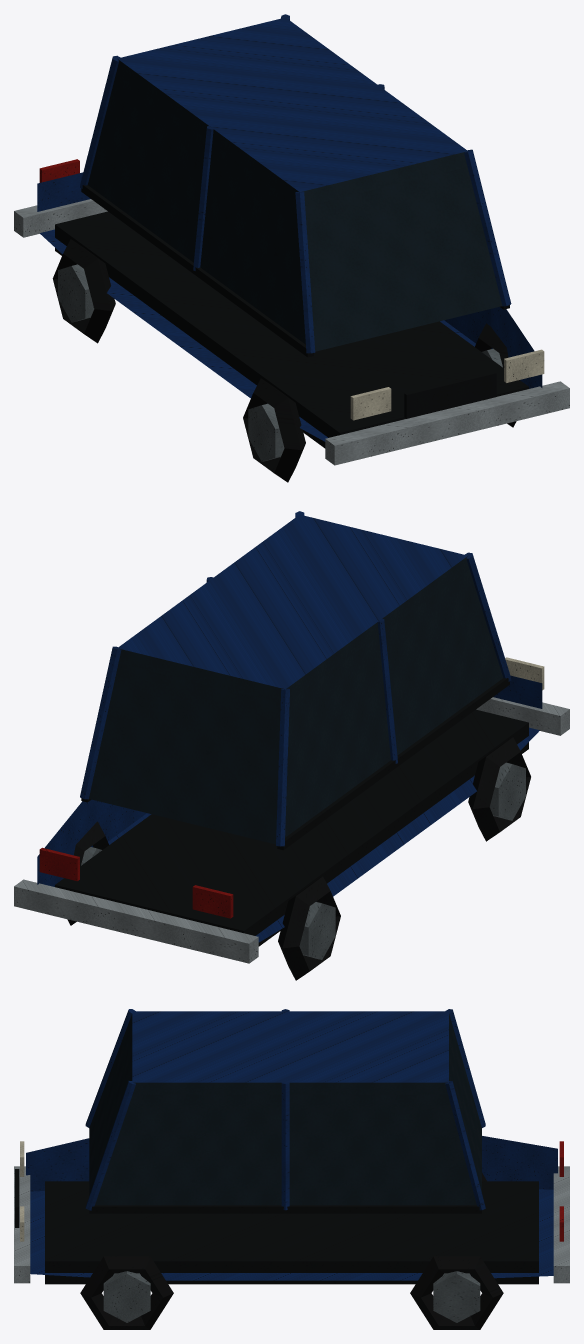
Rendered from PROP-F037C09BF524_lod2.glb.
The picture shows the model from 3 angles, top to bottom: view 1: azimuth 30°, elevation 25°; view 2: azimuth 150°, elevation 25°; view 3: azimuth 270°, elevation 25°; orthographic projection. The views are drawn at different scales.
Parts seen in each view (by area): view 1: sloped_cabin_glazing.029, roof_panel.027, chassis.029, bumper.029, shaped_body_panels.029, tire.029, window_pillars.029, rim.029, window_belt.029, radiator_grille.029, lamp_lenses.058, lamp_lenses.059; view 2: sloped_cabin_glazing.029, roof_panel.027, chassis.029, bumper.029, shaped_body_panels.029, tire.029, window_pillars.029, rim.029, window_belt.029, lamp_lenses.059, lamp_lenses.058; view 3: sloped_cabin_glazing.029, chassis.029, roof_panel.027, shaped_body_panels.029, tire.029, window_pillars.029, rim.029, window_belt.029, bumper.029.
Part boxes in pixels (x1=…): sloped_cabin_glazing.029: x1=87, y1=59, x2=502, y2=351; roof_panel.027: x1=117, y1=17, x2=467, y2=191; chassis.029: x1=55, y1=211, x2=528, y2=448; bumper.029: x1=14, y1=199, x2=569, y2=465; shaped_body_panels.029: x1=37, y1=172, x2=542, y2=441; tire.029: x1=52, y1=239, x2=516, y2=482; window_pillars.029: x1=80, y1=14, x2=511, y2=353; rim.029: x1=58, y1=264, x2=502, y2=461; window_belt.029: x1=81, y1=185, x2=509, y2=357; radiator_grille.029: x1=404, y1=371, x2=496, y2=418; lamp_lenses.058: x1=350, y1=349, x2=544, y2=420; lamp_lenses.059: x1=39, y1=159, x2=79, y2=182; sloped_cabin_glazing.029: x1=89, y1=556, x2=503, y2=844; roof_panel.027: x1=117, y1=514, x2=467, y2=689; chassis.029: x1=55, y1=709, x2=528, y2=946; bumper.029: x1=14, y1=697, x2=569, y2=963; shaped_body_panels.029: x1=37, y1=675, x2=542, y2=942; tire.029: x1=67, y1=737, x2=530, y2=980; window_pillars.029: x1=80, y1=511, x2=511, y2=846; rim.029: x1=81, y1=762, x2=525, y2=959; window_belt.029: x1=81, y1=678, x2=509, y2=850; lamp_lenses.059: x1=39, y1=847, x2=233, y2=918; lamp_lenses.058: x1=505, y1=657, x2=544, y2=690; sloped_cabin_glazing.029: x1=89, y1=1014, x2=481, y2=1205; chassis.029: x1=45, y1=1181, x2=538, y2=1284; roof_panel.027: x1=132, y1=1011, x2=448, y2=1082; shaped_body_panels.029: x1=26, y1=1136, x2=557, y2=1280; tire.029: x1=80, y1=1173, x2=503, y2=1329; window_pillars.029: x1=85, y1=1009, x2=485, y2=1210; rim.029: x1=103, y1=1271, x2=480, y2=1322; window_belt.029: x1=89, y1=1205, x2=481, y2=1213; bumper.029: x1=14, y1=1166, x2=569, y2=1283.
Size of the model in its own units: 1.98 by 2.06 by 4.39.
Materials: 8 (8 with a texture image).
